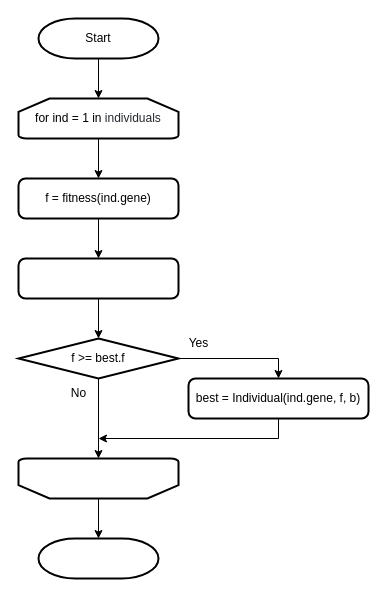
The diagram is 386 pixels wide and 596 high, and some of its shapes have lost their labels. Here are the shapes that lost their labels. From the top down, the centre of each, then its label:
At (98,278): "b = devide_gene(ind.gene)".
At (98,558): "End".
